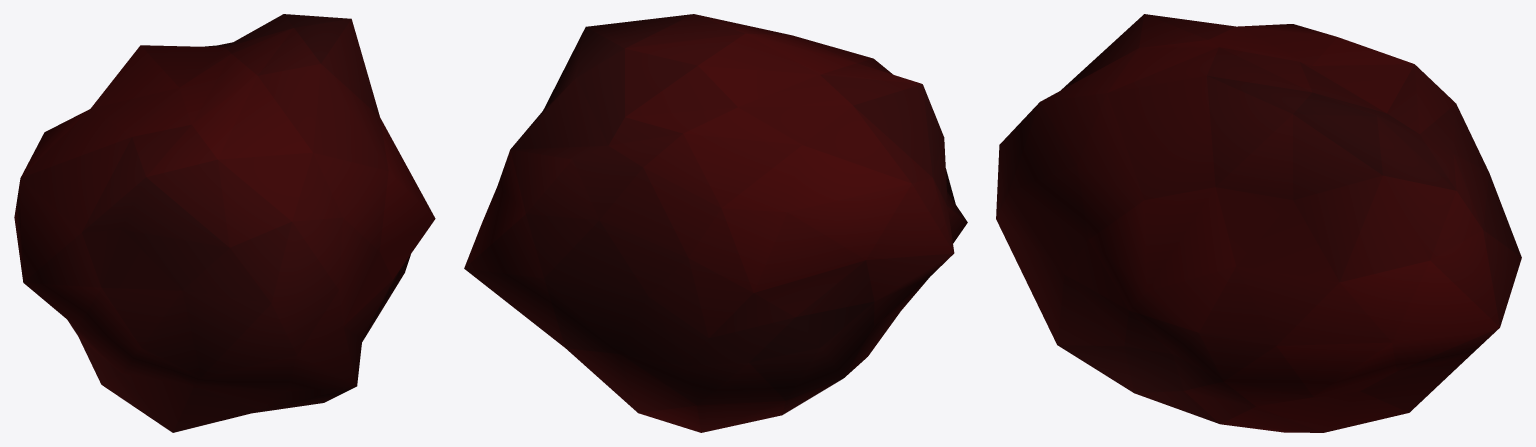
File: geology-rocks-asteroidsmall_v5.fbx
3 renders of one model, left to right at view 1: azimuth 30°, elevation 25°; view 2: azimuth 150°, elevation 25°; view 3: azimuth 270°, elevation 25°, orthographic. The views are drawn at different scales.
Parts seen in each view (by area): view 1: AsteroidSmall_v5; view 2: AsteroidSmall_v5; view 3: AsteroidSmall_v5.
Part boxes in pixels (x1,y1,x2,y2): AsteroidSmall_v5: [14, 14, 435, 432]; AsteroidSmall_v5: [464, 14, 967, 432]; AsteroidSmall_v5: [996, 14, 1521, 432].
Bounding box in the file's own units: 0.482 × 0.3953 × 0.4913.
